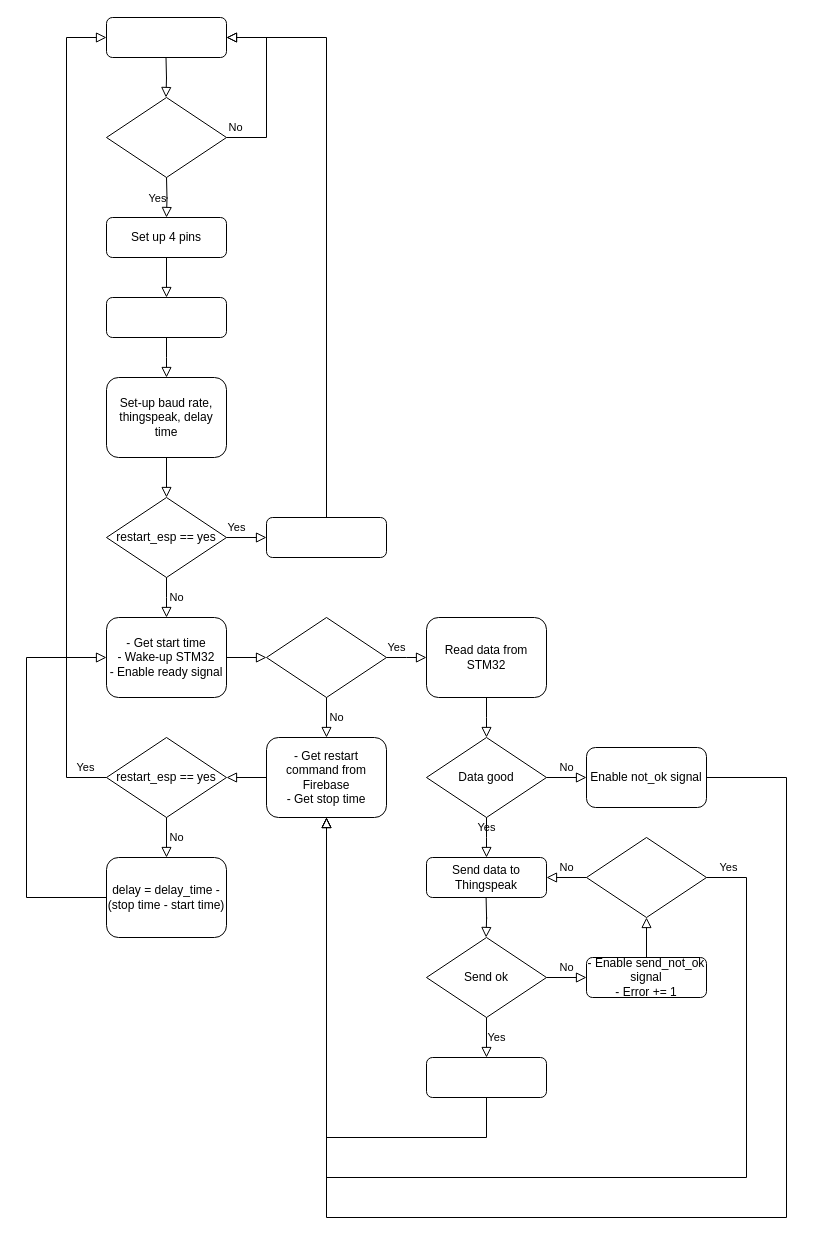
Some shapes in this 814 by 1245 pixel diagram are drawn without their labels. Each missing label, with the centre of its shape:
"Connect to wifi" goes at (166,37).
"Connected ?" goes at (166,137).
"Disable send_not_ok signal" goes at (486,1077).
"Error == 3" goes at (646,877).
"Get config data from Firebase" goes at (166,317).
"restart_esp == no" goes at (326,537).
"Serial available" goes at (326,657).
